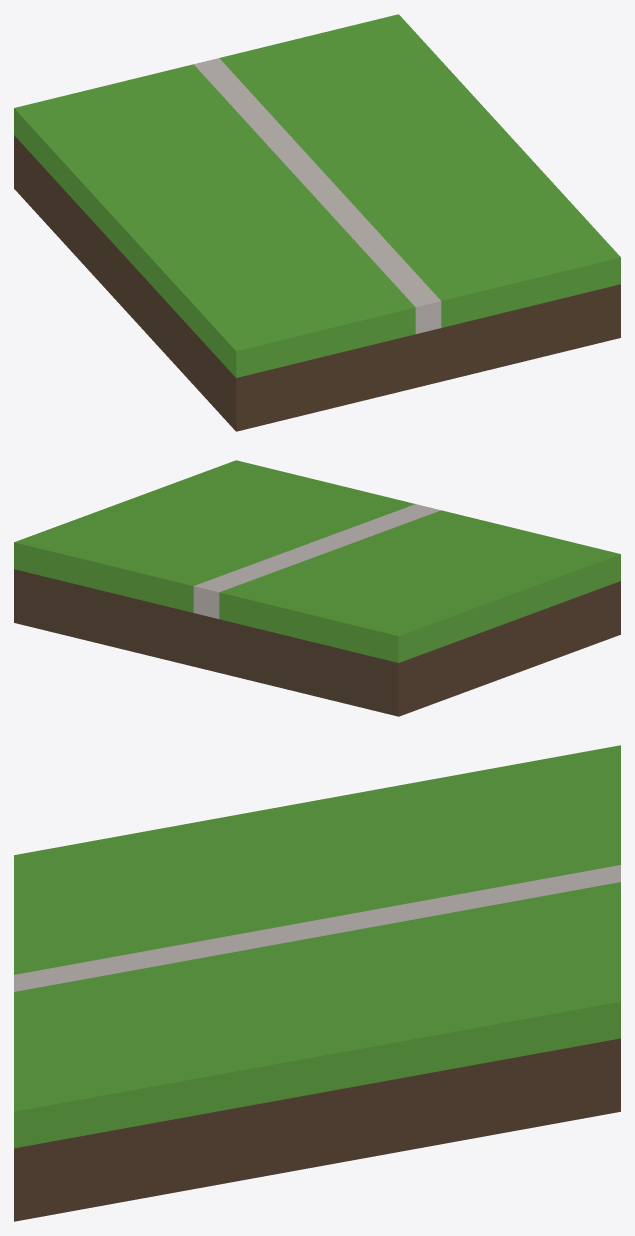
Rendered from tile-sidewalk-hill.glb.
The picture shows the model from 3 angles, top to bottom: view 1: azimuth 30°, elevation 25°; view 2: azimuth 150°, elevation 25°; view 3: azimuth 270°, elevation 25°; orthographic projection. The views are drawn at different scales.
Visible parts, largest first — view 1: tile-sidewalk-hill; view 2: tile-sidewalk-hill; view 3: tile-sidewalk-hill.
Part boxes in pixels (x1,y1,x2,y2): tile-sidewalk-hill: (14, 14, 620, 431); tile-sidewalk-hill: (14, 460, 620, 716); tile-sidewalk-hill: (14, 745, 620, 1221).
Size of the model in its own units: 30 by 12 by 30.
Materials: 1 (1 with a texture image).
